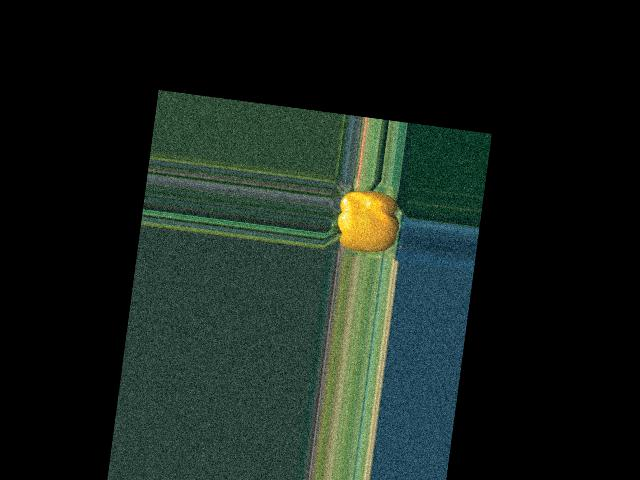bell_pepper: (328, 181, 404, 259)
